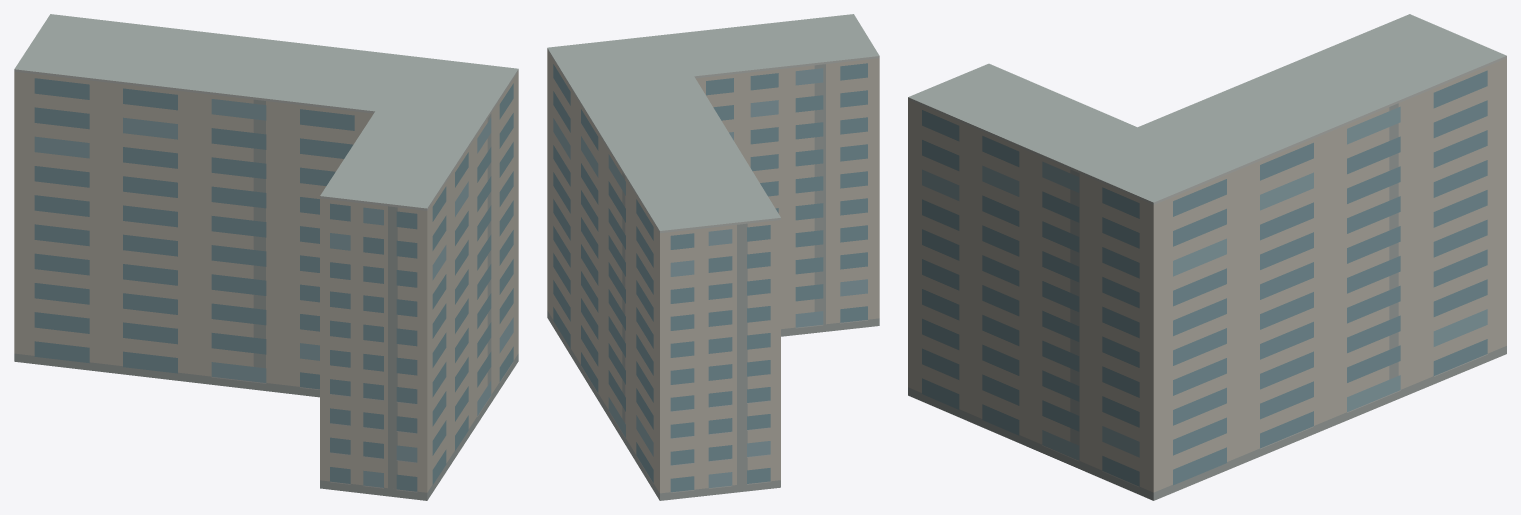
The model's file is residential-218bc96b-7721-423b-8060-4f847938c3e7.glb.
3 views of the same model, side by side, from view 1: azimuth 30°, elevation 25°; view 2: azimuth 150°, elevation 25°; view 3: azimuth 270°, elevation 25° (orthographic). The views are drawn at different scales.
Visible parts, largest first — view 1: residential-218bc96b-7721-423b-8060-4f847938c3e7.tmp; view 2: residential-218bc96b-7721-423b-8060-4f847938c3e7.tmp; view 3: residential-218bc96b-7721-423b-8060-4f847938c3e7.tmp.
Part boxes in pixels (<box>): residential-218bc96b-7721-423b-8060-4f847938c3e7.tmp: <box>14,14,518,500</box>; residential-218bc96b-7721-423b-8060-4f847938c3e7.tmp: <box>547,14,879,500</box>; residential-218bc96b-7721-423b-8060-4f847938c3e7.tmp: <box>908,14,1506,500</box>.
Size of the model in its own units: 40.69 by 30 by 54.59.
